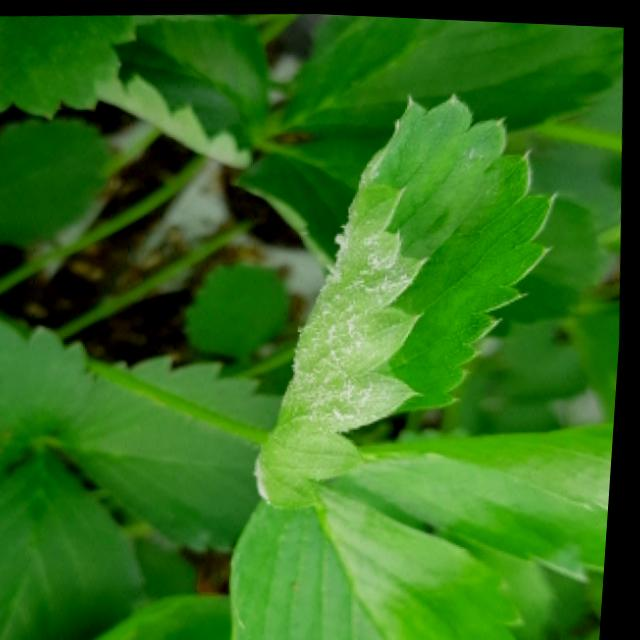Powdery Mildew Leaf: (256, 87, 557, 512)
